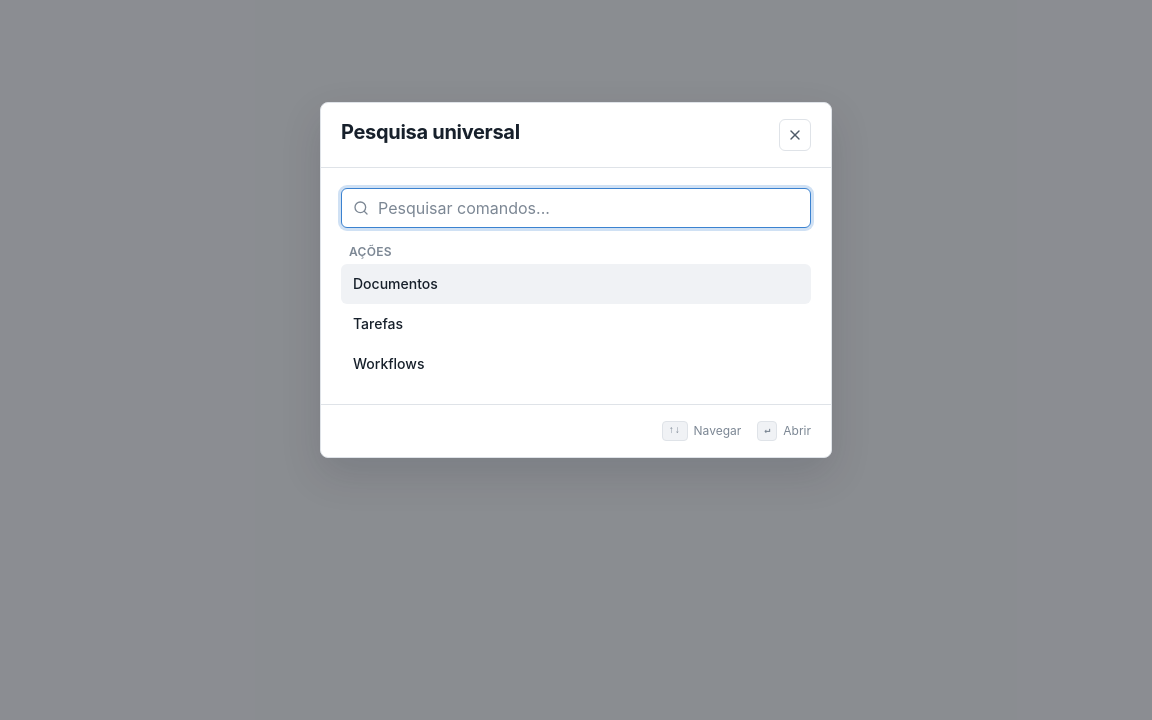
Test: CommandMenu › filters items by label and keywords
Type "tasks" into the dropdown at (576, 208), box [341,188,811,228]
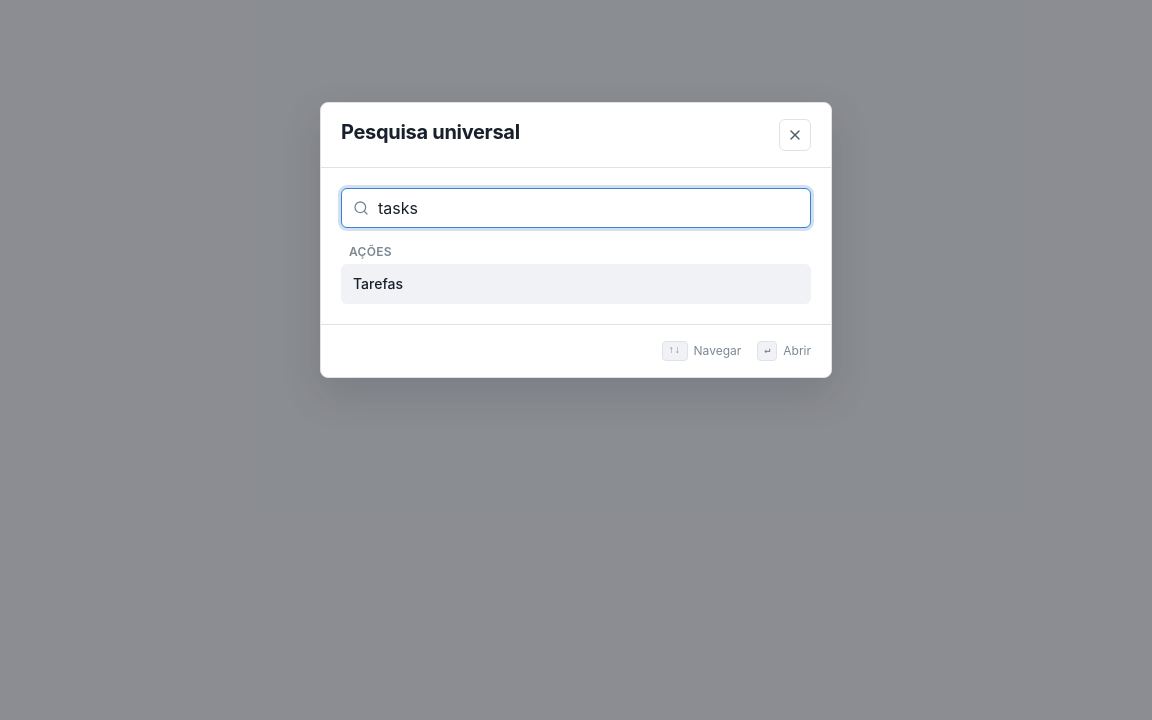
Check: the option "Tarefas" is shown, box [341,264,811,304]
Check: the option "Documentos" is gone
